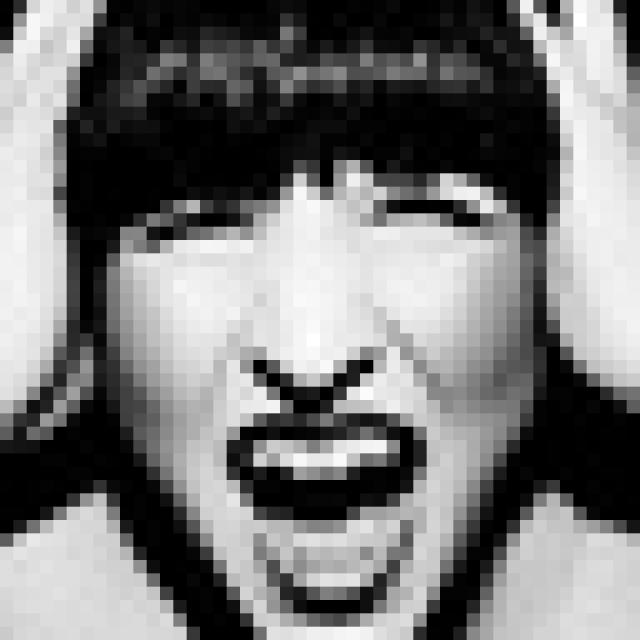angry: (133, 182, 489, 616)
